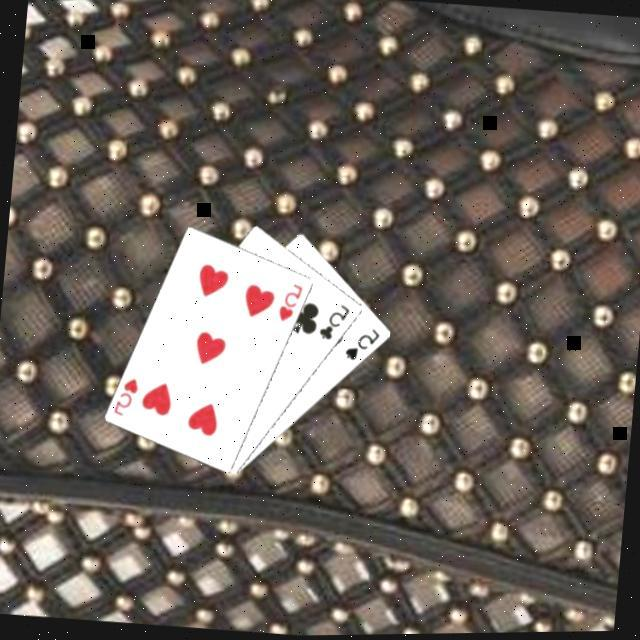5C: (313, 298, 351, 343)
5H: (273, 278, 305, 325), (108, 371, 140, 418)
5S: (340, 323, 381, 365)
